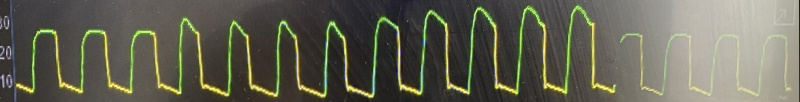normal_pressure: (7, 1, 794, 102)
